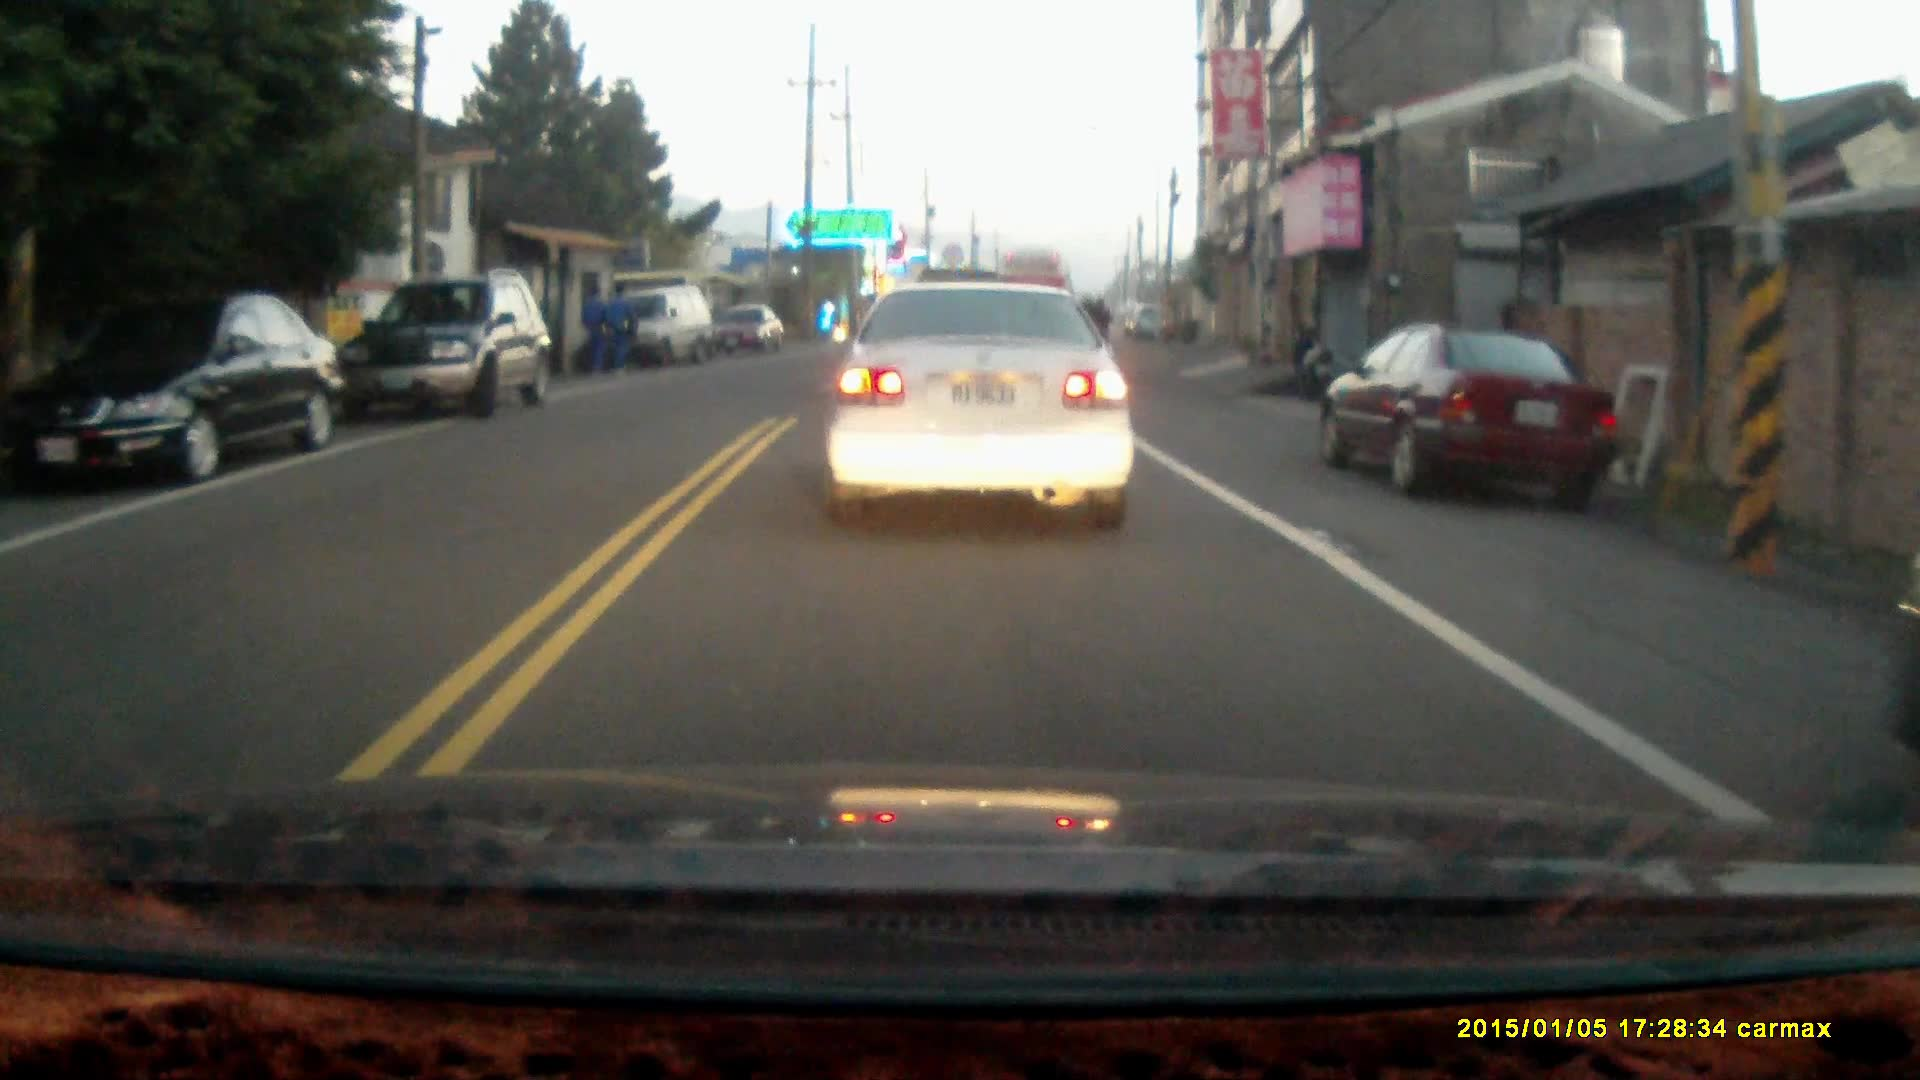pedestrian: (604, 275, 634, 373), (577, 283, 608, 379)
vehicle: (825, 276, 1136, 531), (12, 293, 341, 483), (1321, 318, 1623, 507), (332, 268, 556, 418), (609, 284, 727, 366), (701, 306, 787, 359)
